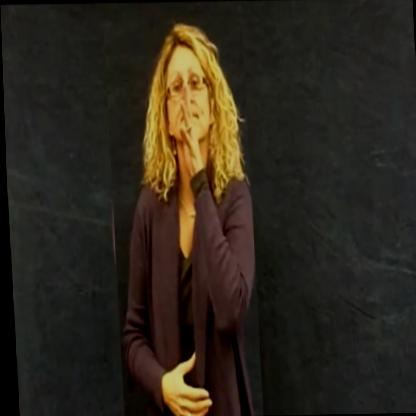Talk: (101, 15, 259, 416)
